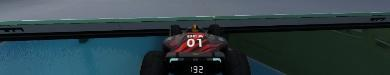Car: (139, 24, 251, 74)
Solid White and black: (373, 37, 389, 49)
grass: (227, 28, 389, 74)
obstacles-Borders: (0, 26, 389, 74)
